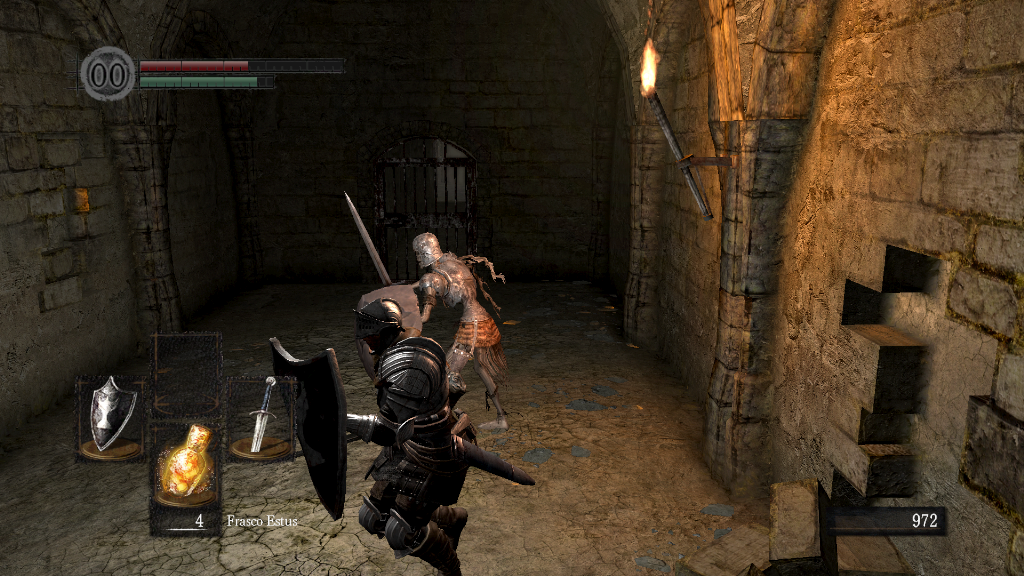health: (138, 58, 343, 71)
humanity: (80, 45, 136, 102)
player: (267, 298, 537, 576)
souls: (825, 506, 945, 536)
stamina: (138, 74, 274, 88)
undeadSoldier: (411, 228, 515, 434)
